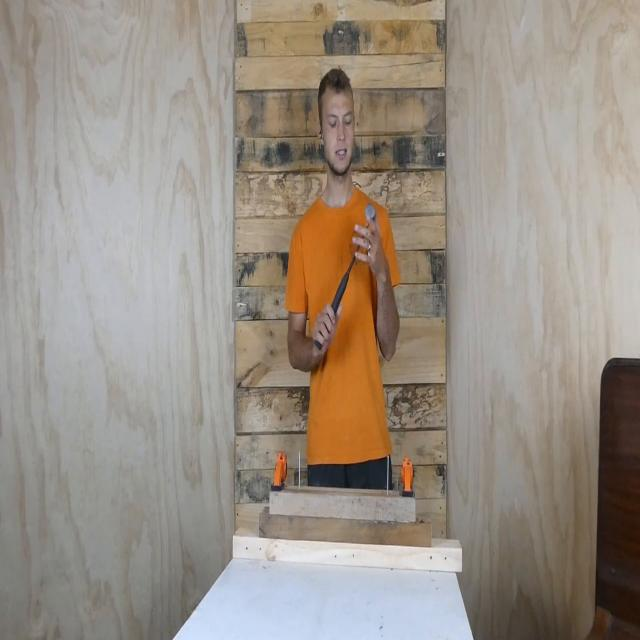hammer: (316, 201, 376, 349)
